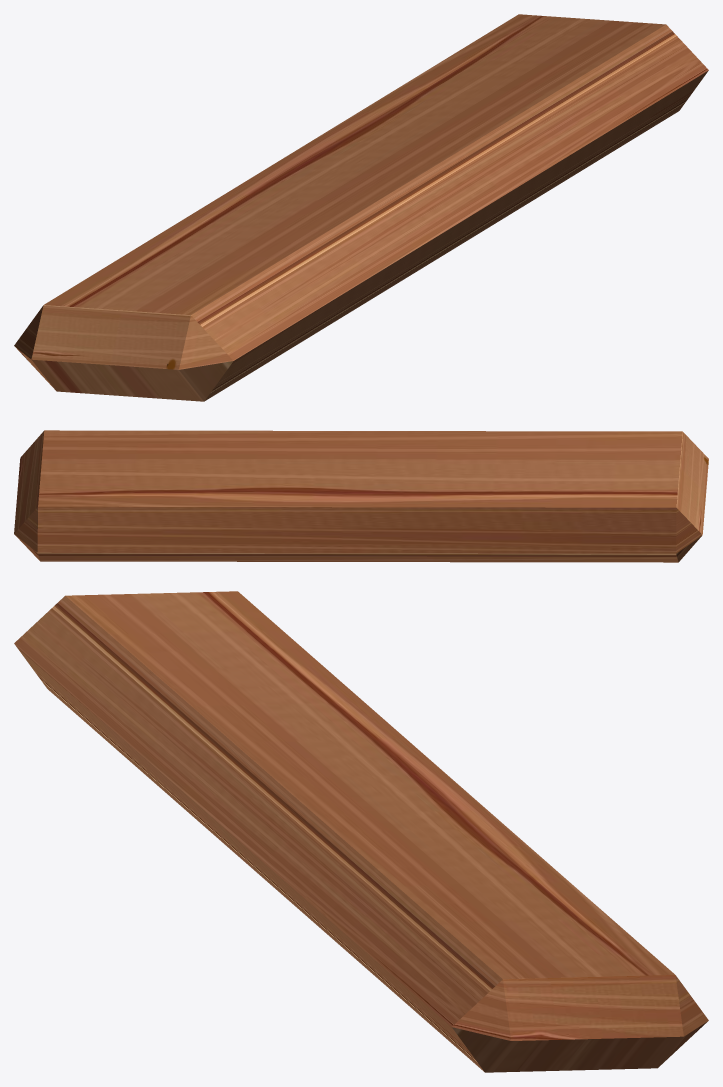
File: destroyedoska1.fbx
The picture shows the model from 3 angles, top to bottom: view 1: azimuth 30°, elevation 25°; view 2: azimuth 150°, elevation 25°; view 3: azimuth 270°, elevation 25°; orthographic projection. The views are drawn at different scales.
Parts seen in each view (by area): view 1: Cube.086; view 2: Cube.086; view 3: Cube.086.
Boxes of the visible parts, bbox=[...] form: Cube.086: bbox=[14, 14, 708, 401]; Cube.086: bbox=[14, 430, 708, 562]; Cube.086: bbox=[14, 591, 708, 1072].
Bounding box in the file's own units: 116 × 18.16 × 79.5.
